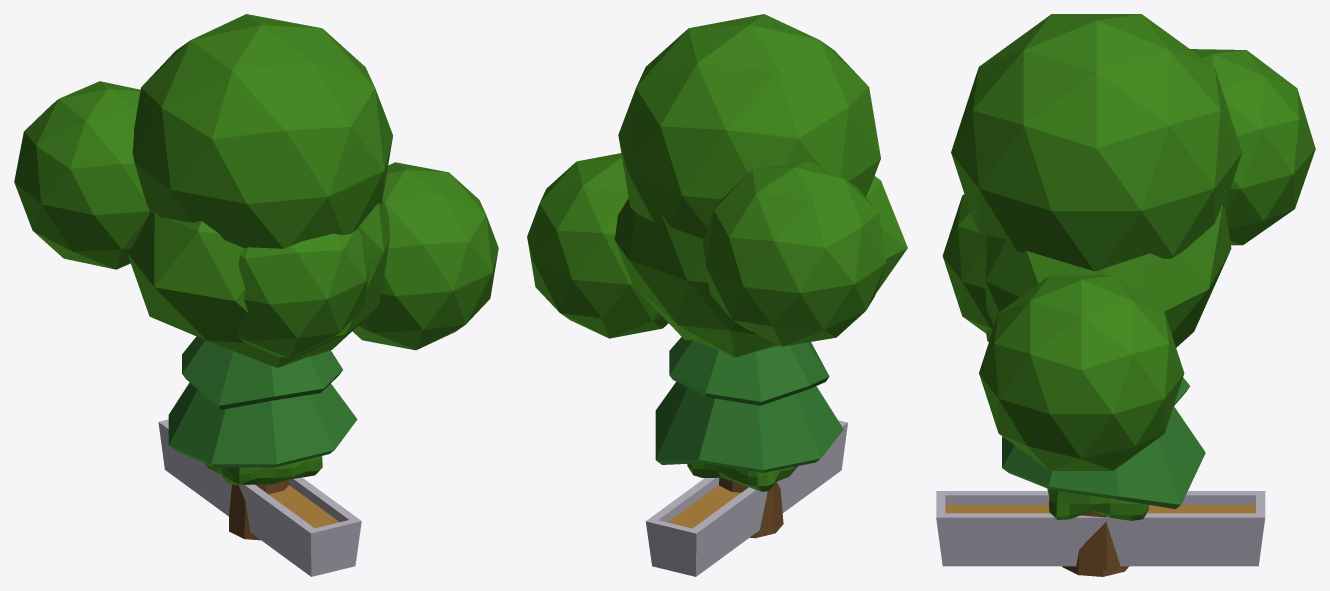
The model's file is Plants.fbx.
3 views of the same model, side by side, from view 1: azimuth 30°, elevation 25°; view 2: azimuth 150°, elevation 25°; view 3: azimuth 270°, elevation 25° (orthographic). The views are drawn at different scales.
Parts seen in each view (by area): view 1: Big Oak, Spruce, Oak, Planter, Bush; view 2: Big Oak, Spruce, Oak, Planter, Bush; view 3: Big Oak, Planter, Oak, Spruce, Bush.
Part boxes in pixels (bbox=[...]): Big Oak: bbox=[14, 14, 498, 540]; Spruce: bbox=[168, 336, 357, 523]; Oak: bbox=[127, 199, 389, 367]; Planter: bbox=[158, 419, 361, 576]; Bush: bbox=[205, 456, 322, 485]; Big Oak: bbox=[527, 14, 886, 538]; Spruce: bbox=[655, 337, 843, 530]; Oak: bbox=[614, 176, 907, 357]; Planter: bbox=[645, 420, 847, 576]; Bush: bbox=[687, 463, 797, 491]; Big Oak: bbox=[942, 14, 1315, 576]; Planter: bbox=[936, 491, 1265, 566]; Oak: bbox=[985, 205, 1231, 347]; Spruce: bbox=[1002, 377, 1205, 569]; Bush: bbox=[1047, 488, 1148, 520].
Size of the model in its own units: 17.9 by 21.74 by 13.82.
